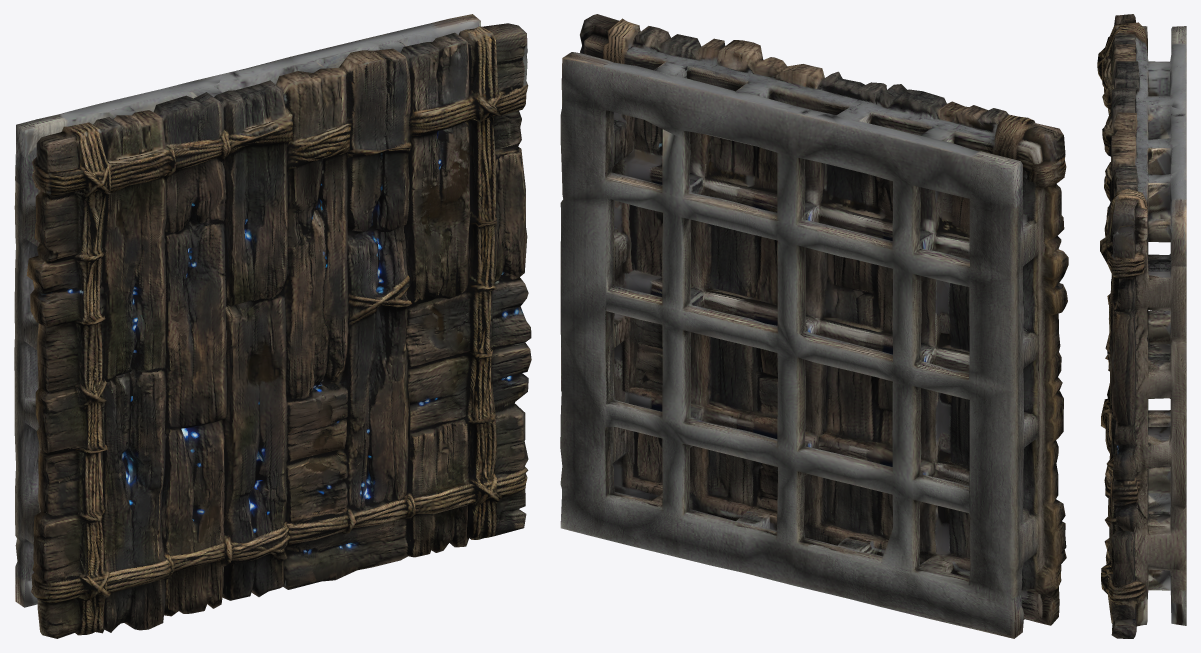
File: p_floortilset.glb
3 views of the same model, side by side, from view 1: azimuth 30°, elevation 25°; view 2: azimuth 150°, elevation 25°; view 3: azimuth 270°, elevation 25° (orthographic). The views are drawn at different scales.
Size of the model in its own units: 1.89 by 1.91 by 0.3513.
1 material, 1 textured.
